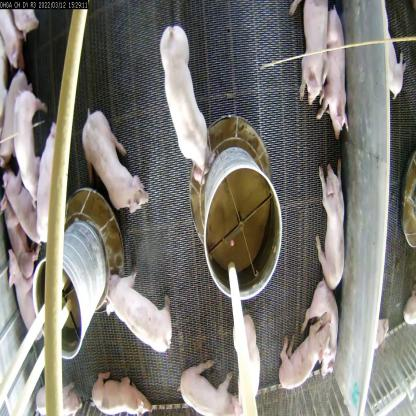Pig: (154, 24, 216, 172), (84, 105, 148, 234), (99, 259, 179, 356), (310, 152, 360, 292), (267, 300, 335, 390), (297, 284, 351, 392), (28, 124, 78, 239), (230, 298, 278, 416), (281, 0, 328, 104), (2, 155, 44, 270), (312, 3, 348, 122), (13, 94, 50, 208), (183, 354, 248, 416), (10, 244, 43, 341), (90, 369, 159, 415)
